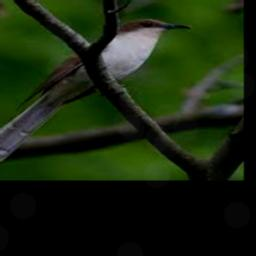Cuckoo: (0, 18, 192, 167)
